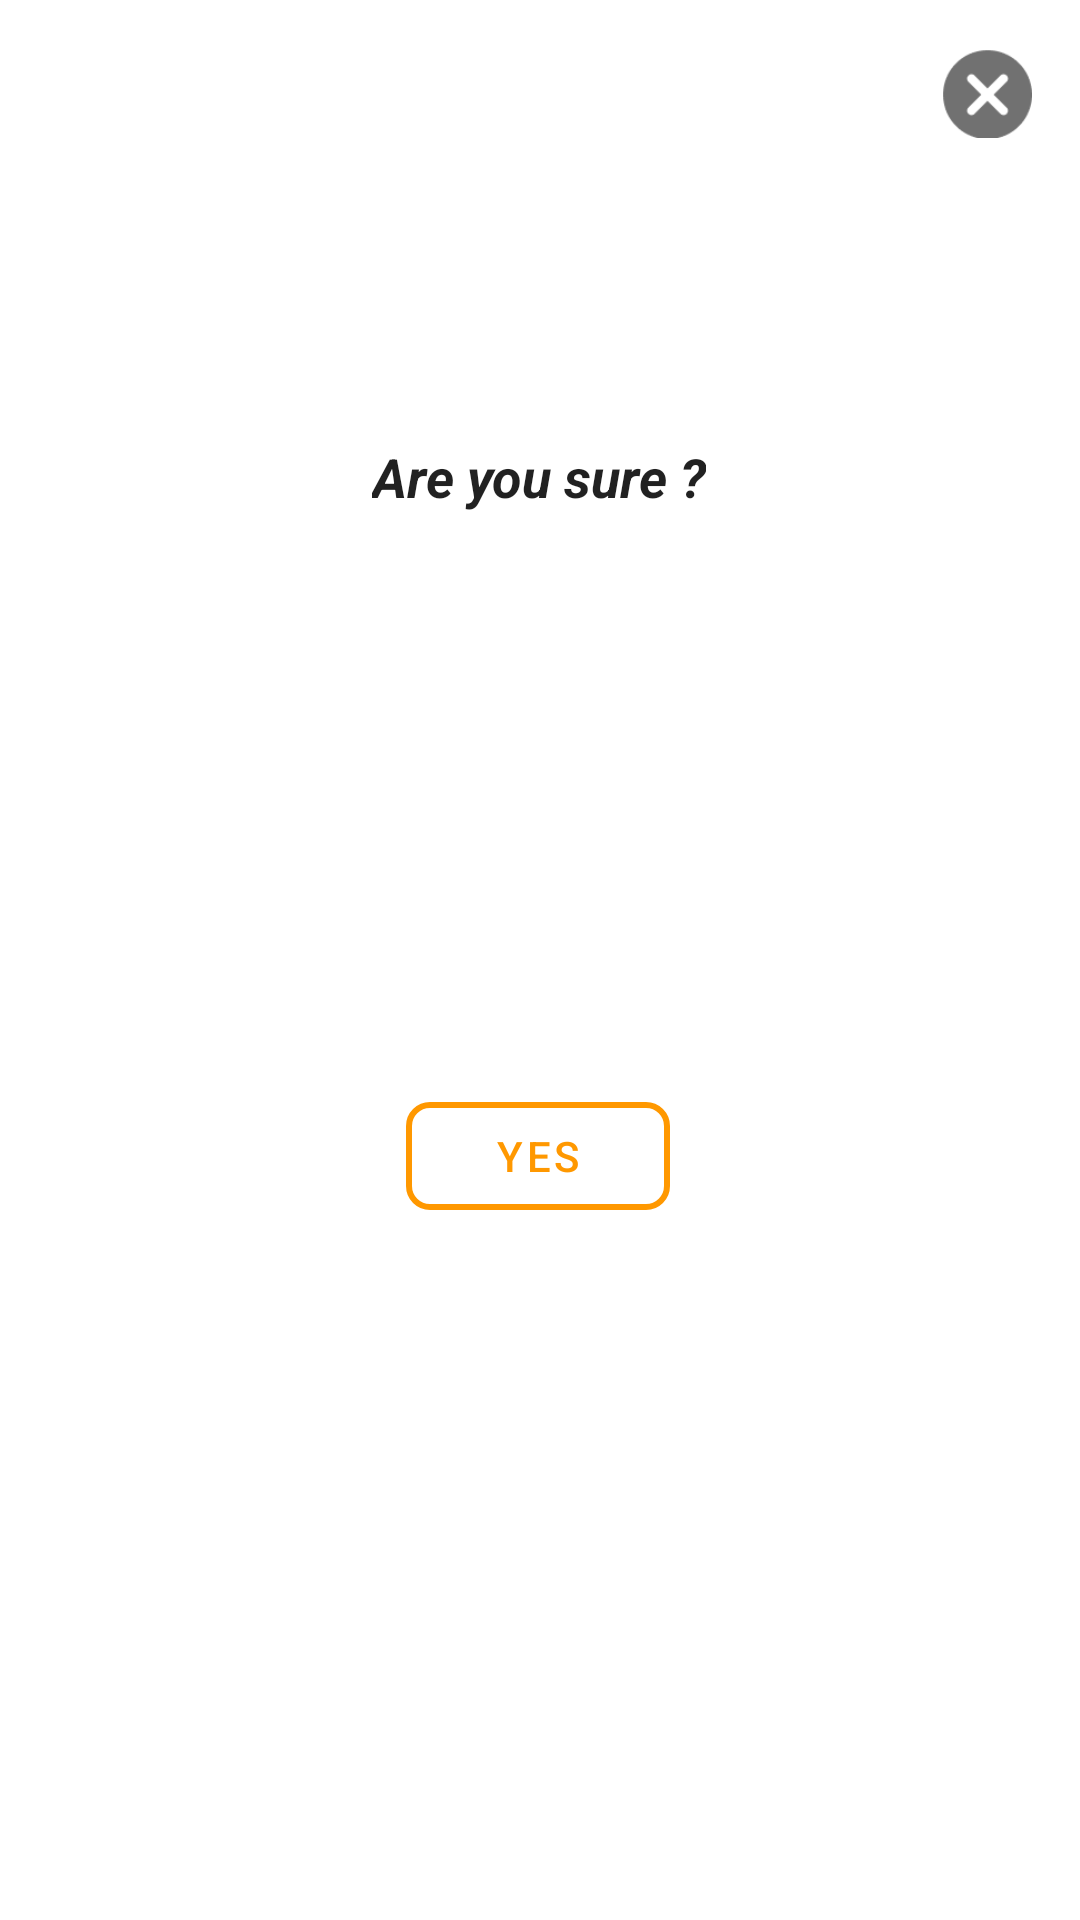

Icons on this 1080px×1920px Android screen, each with its box as (x1, y1, x2, y2):
close: (943, 50, 1032, 138)
